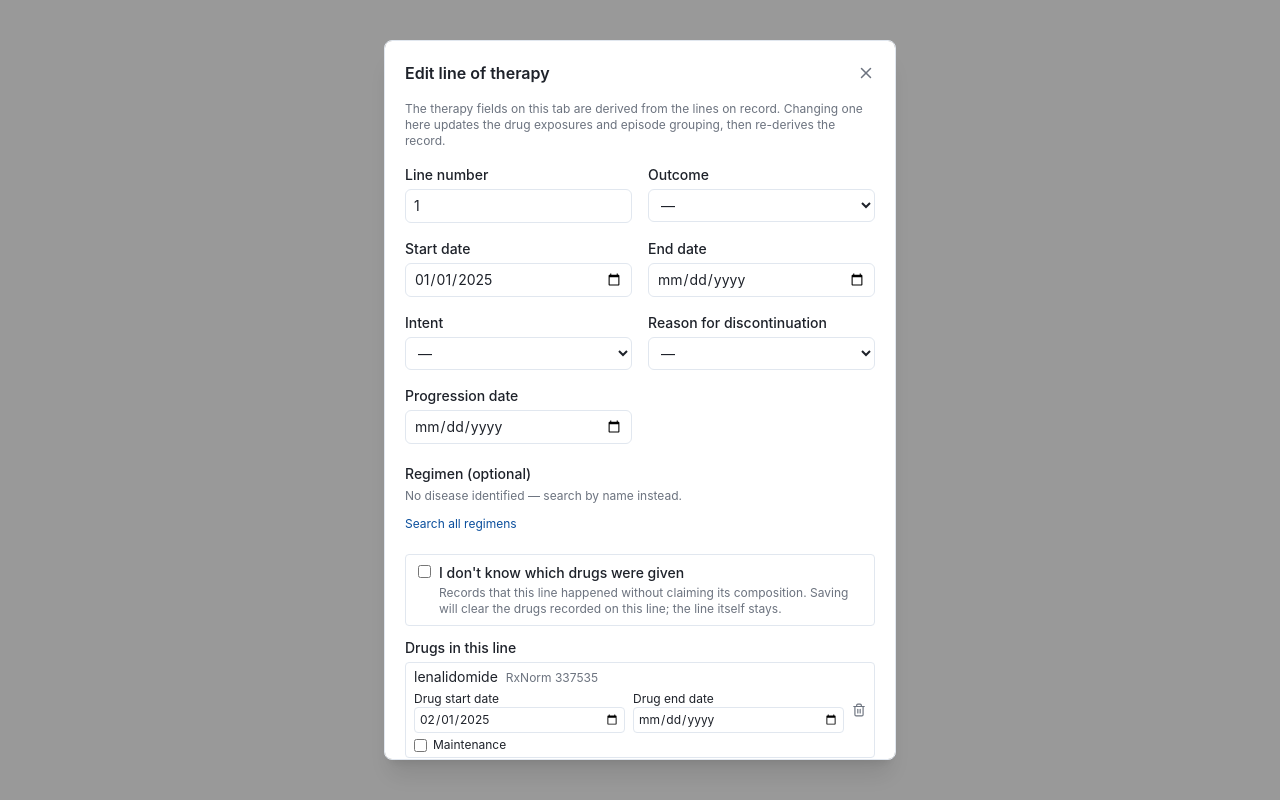
TherapyLineDialog › does not submit a future administration as received treatment
This screenshot has width=1280, height=800.
Type "2099-01-01" into the date field named "lenalidomide start date (1)".
click(520, 720); type("2099-01-01")  # box [414, 707, 625, 733]
(page scrolled)
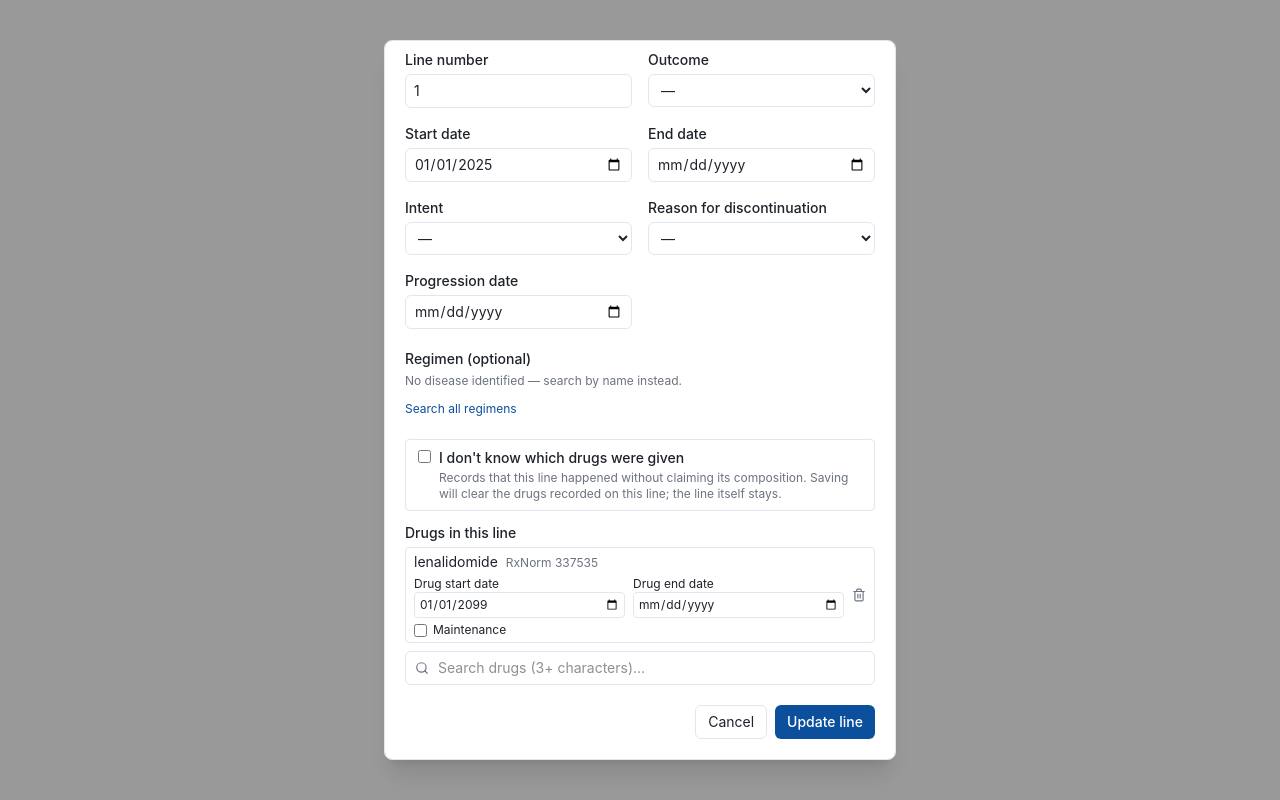
Click the button "Update line".
click(825, 722)  # box [775, 705, 875, 739]
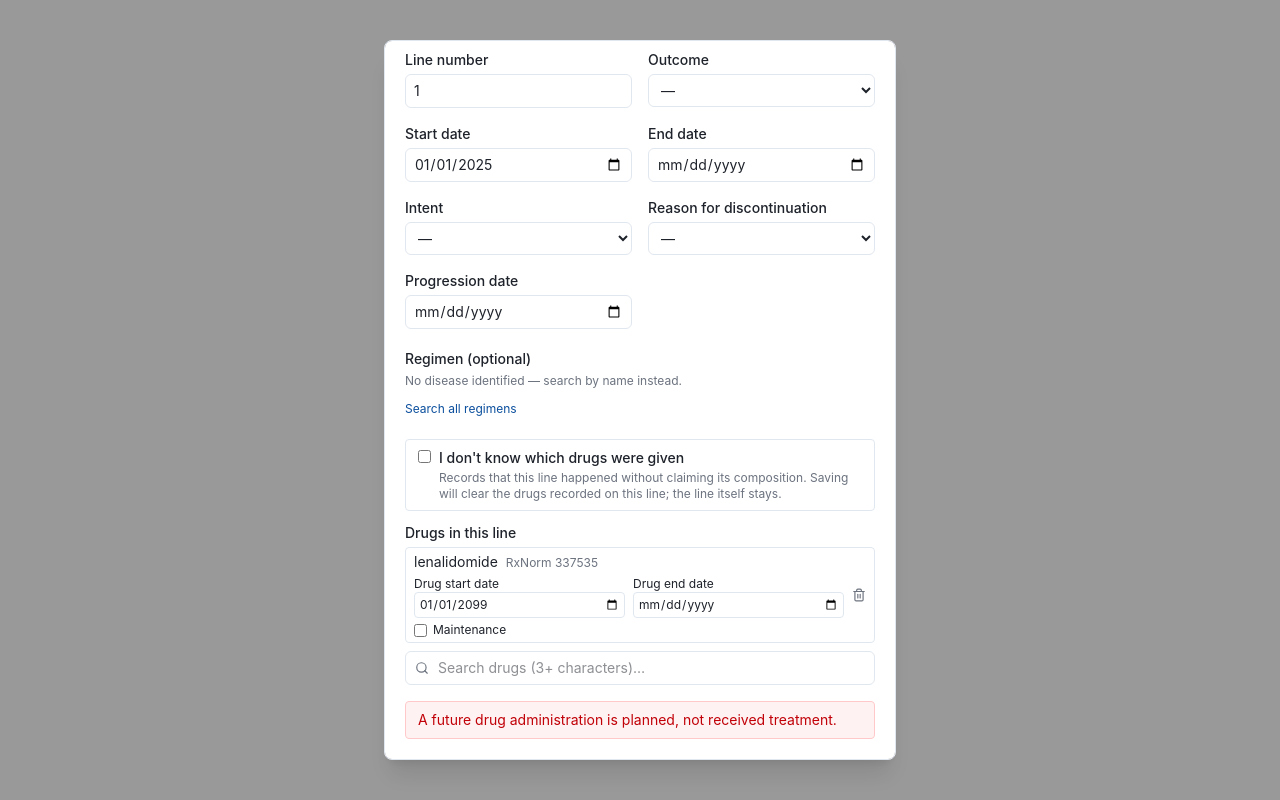
Now the message shows "planned, not received", box [418, 711, 837, 728]
